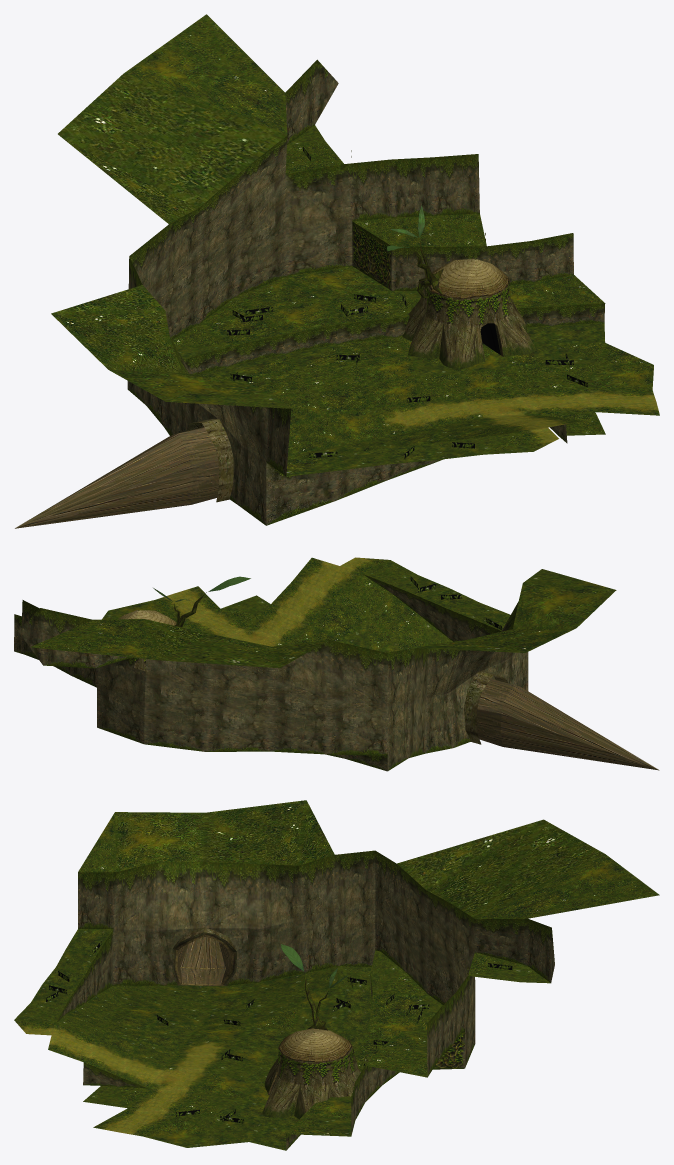
Rendered from Kokiri_Forest.obj.
3 renders of one model, top to bottom at view 1: azimuth 30°, elevation 25°; view 2: azimuth 150°, elevation 25°; view 3: azimuth 270°, elevation 25°, orthographic. The views are drawn at different scales.
Visible parts, largest first — view 1: nodeFBXASC04502D34D0D2; view 2: nodeFBXASC04502D34D0D2; view 3: nodeFBXASC04502D34D0D2.
Part boxes in pixels (bbox=[...]): nodeFBXASC04502D34D0D2: bbox=[15, 14, 659, 528]; nodeFBXASC04502D34D0D2: bbox=[14, 557, 659, 771]; nodeFBXASC04502D34D0D2: bbox=[14, 800, 659, 1150].
Bounding box in the file's own units: 1154 × 388 × 1138.
10 materials, 10 textured.
